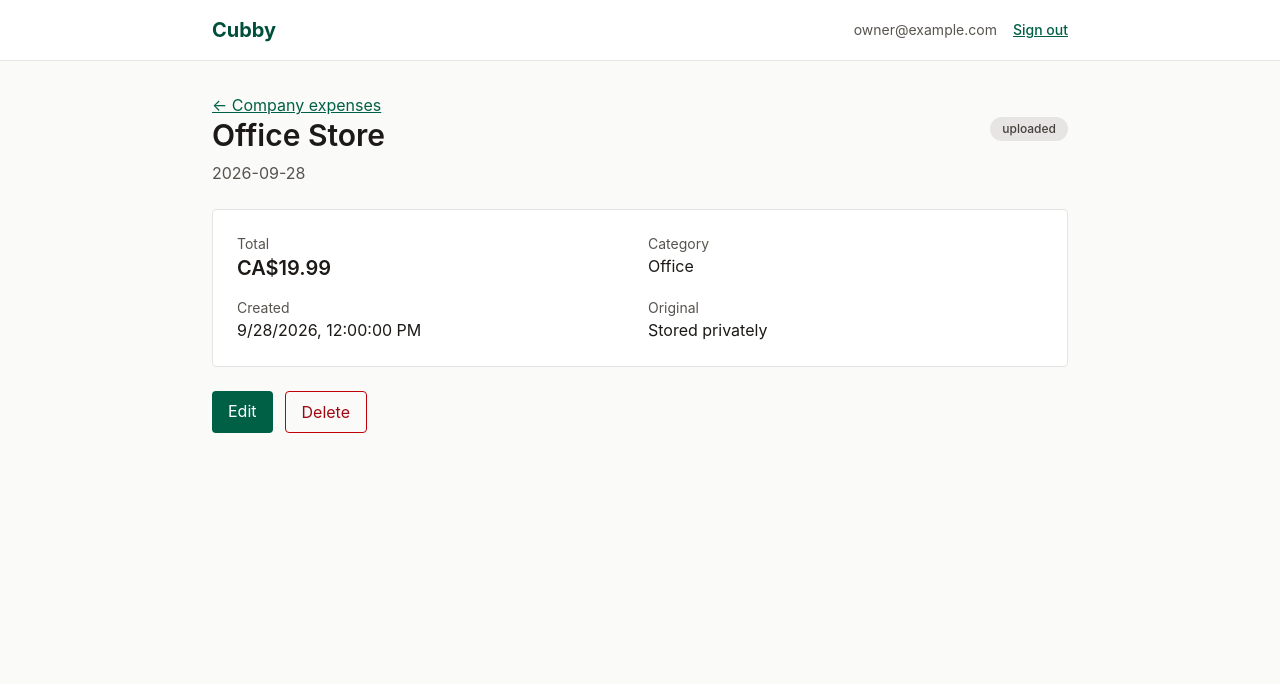
Scenario: receipt screens › requires confirmation before deleting and shows success
The width and height of the screenshot is (1280, 684).
Click the button "Delete".
click(326, 412)  # box 284,391 -> 367,433
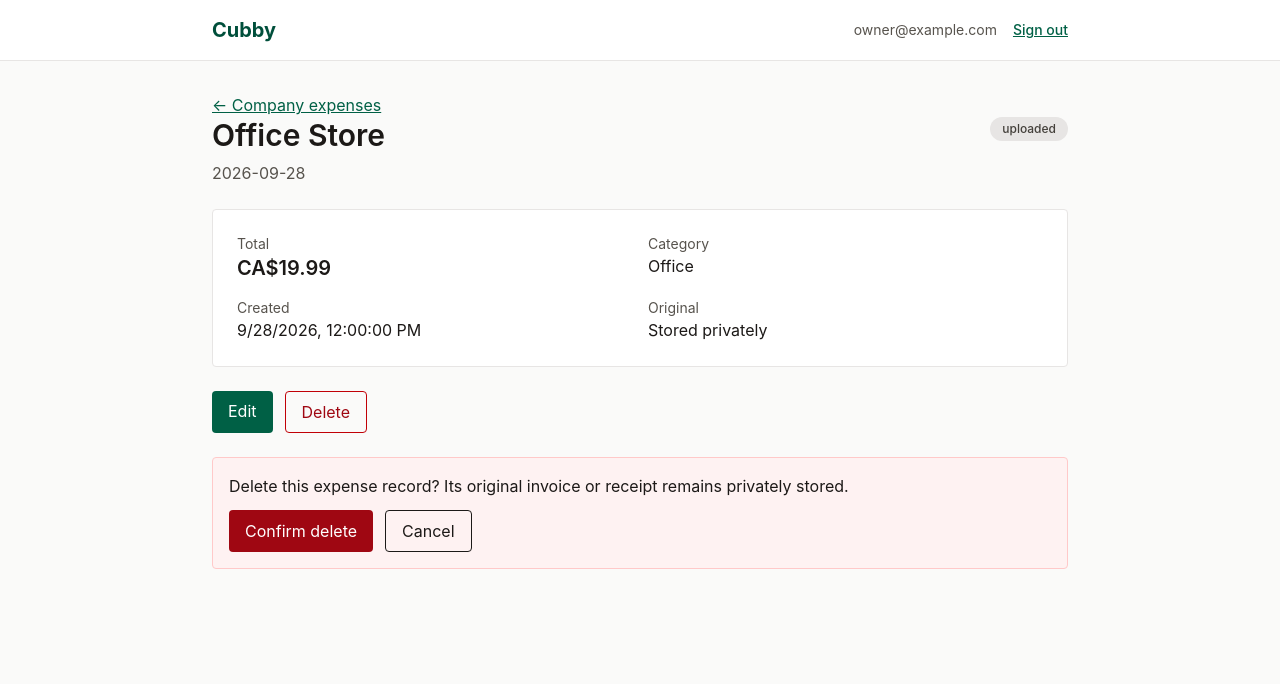
Click the button "Confirm delete".
click(301, 531)  # box 229,510 -> 373,552
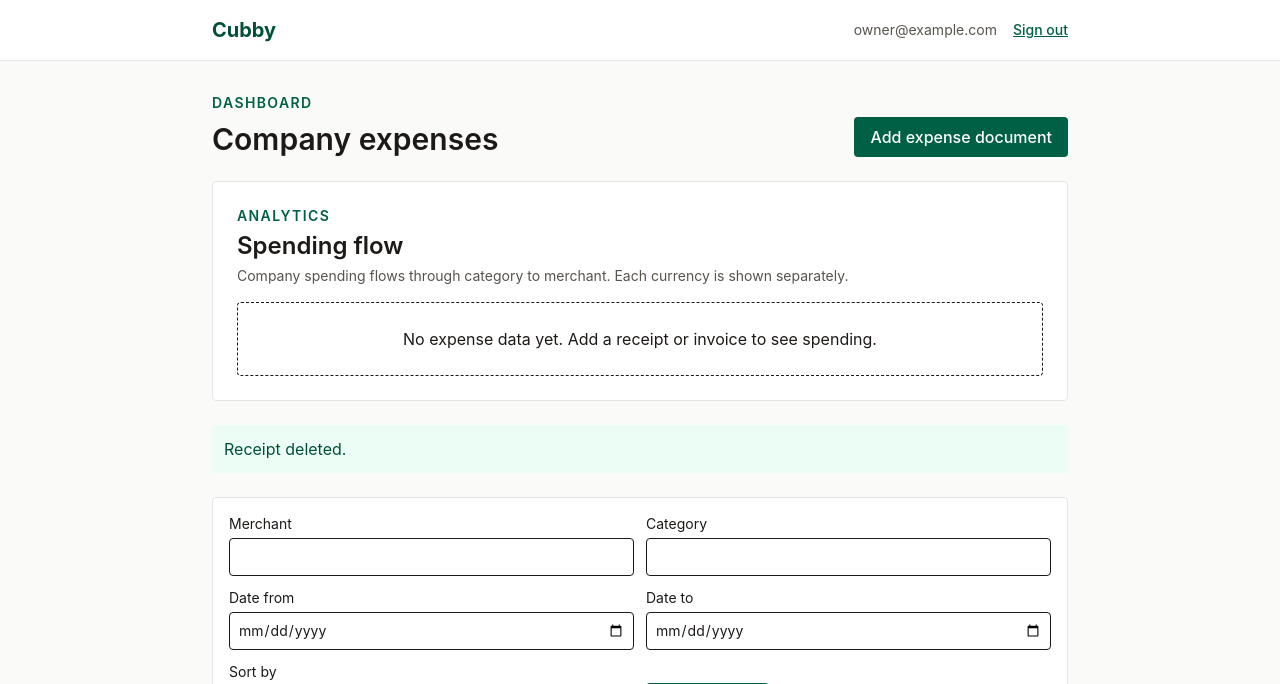
Expected: the text "Receipt deleted." is shown, 212,425 -> 1068,473
